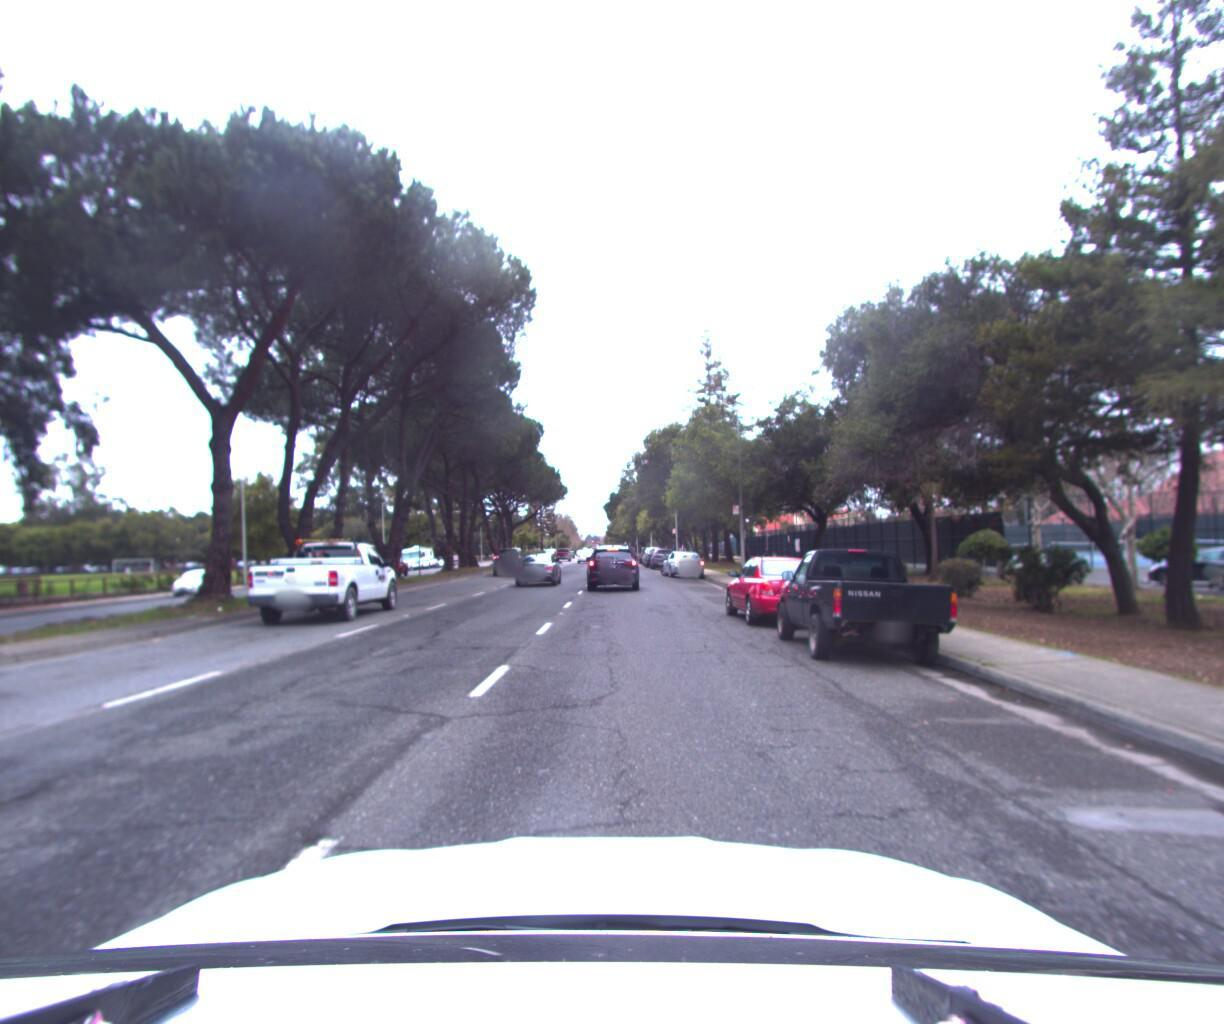car: (767, 539, 971, 667), (244, 527, 409, 635), (719, 543, 850, 628), (583, 540, 642, 594), (171, 567, 229, 599), (515, 550, 564, 587), (658, 543, 707, 574), (491, 545, 528, 577), (377, 550, 415, 577), (649, 542, 677, 566)
